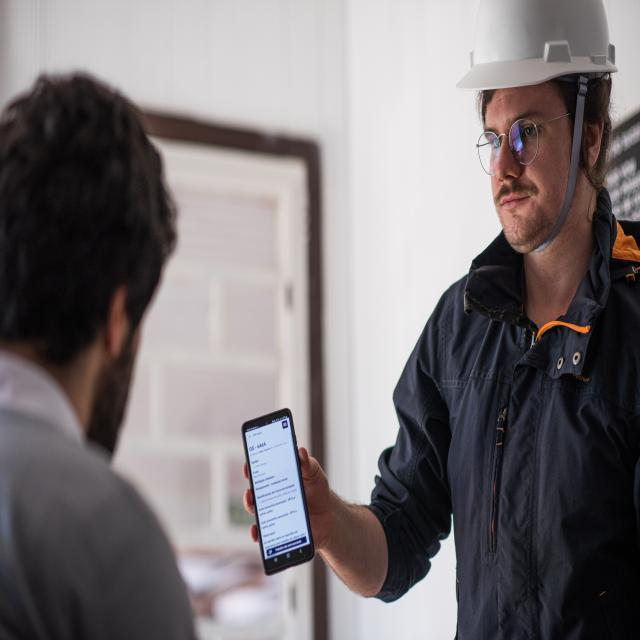capacete: (452, 0, 620, 99)
